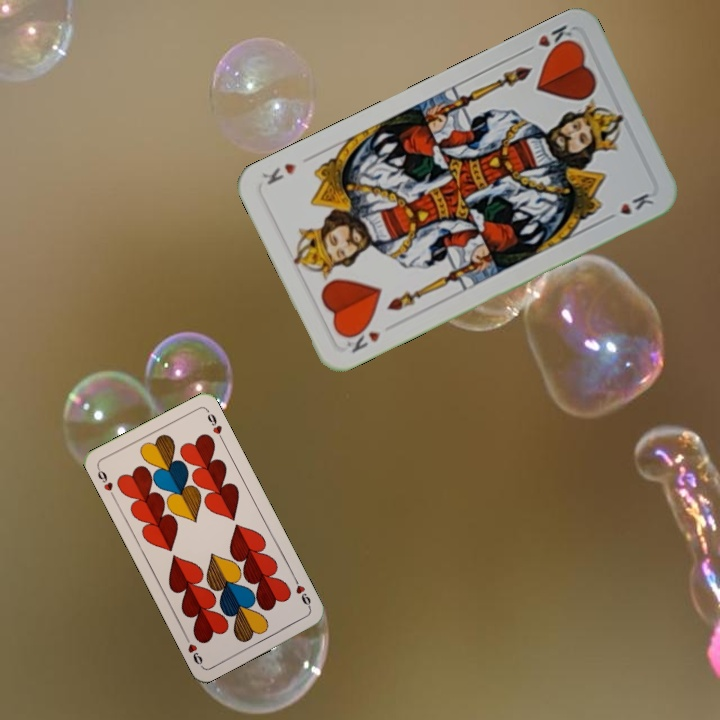H9: (93, 463, 118, 501), (290, 573, 313, 611)
HK: (519, 21, 578, 58), (341, 320, 383, 356)
